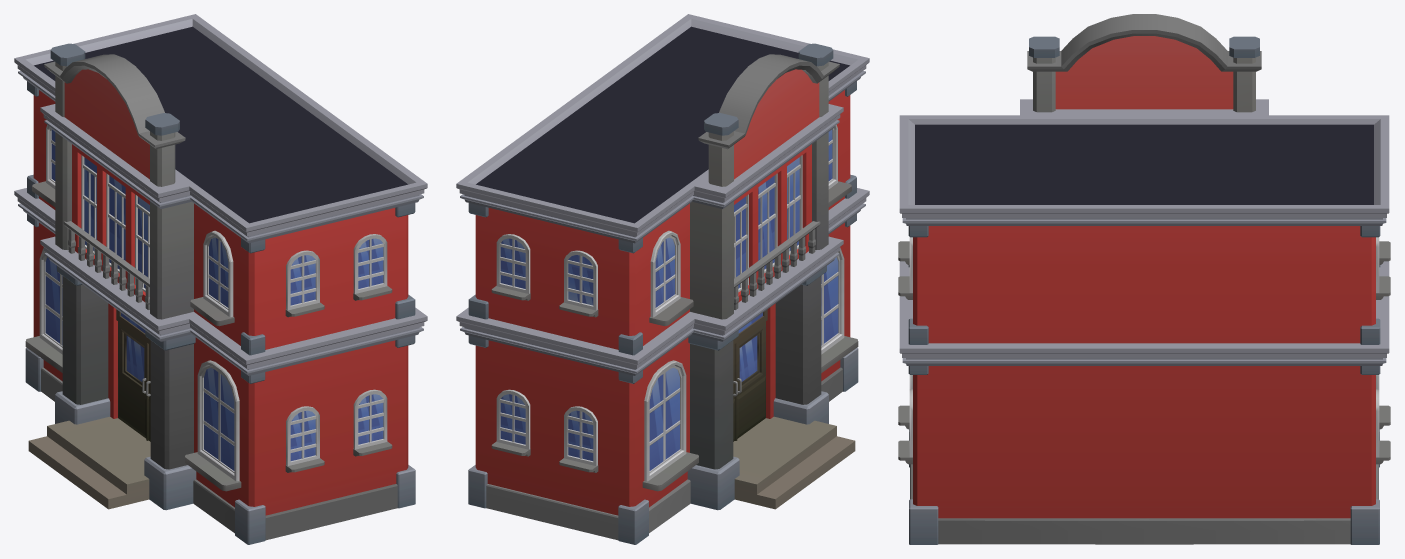
The model's file is Building_24_I.fbx.
The picture shows the model from 3 angles, left to right: view 1: azimuth 30°, elevation 25°; view 2: azimuth 150°, elevation 25°; view 3: azimuth 270°, elevation 25°; orthographic projection. The views are drawn at different scales.
Parts seen in each view (by area): view 1: Building_24_I; view 2: Building_24_I; view 3: Building_24_I.
Boxes of the visible parts, x1=… form: Building_24_I: x1=14, y1=14, x2=427, y2=544; Building_24_I: x1=456, y1=14, x2=869, y2=544; Building_24_I: x1=898, y1=14, x2=1390, y2=544.
Size of the model in its own units: 535 by 847 by 888.
